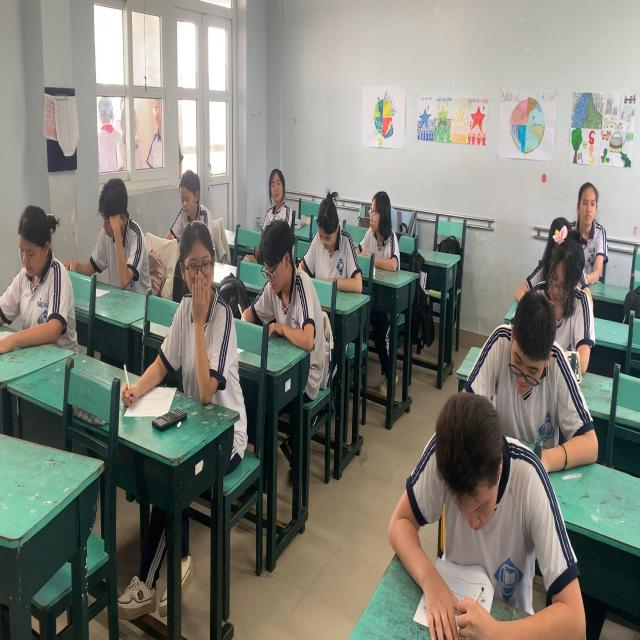cheating: (168, 219, 245, 423)
not_cheating: (377, 398, 577, 630), (478, 298, 593, 464), (0, 204, 72, 354), (254, 205, 320, 354), (525, 208, 585, 358), (80, 174, 150, 284), (575, 174, 611, 298), (310, 198, 358, 288), (356, 184, 400, 278), (173, 164, 208, 236), (260, 170, 294, 222)
